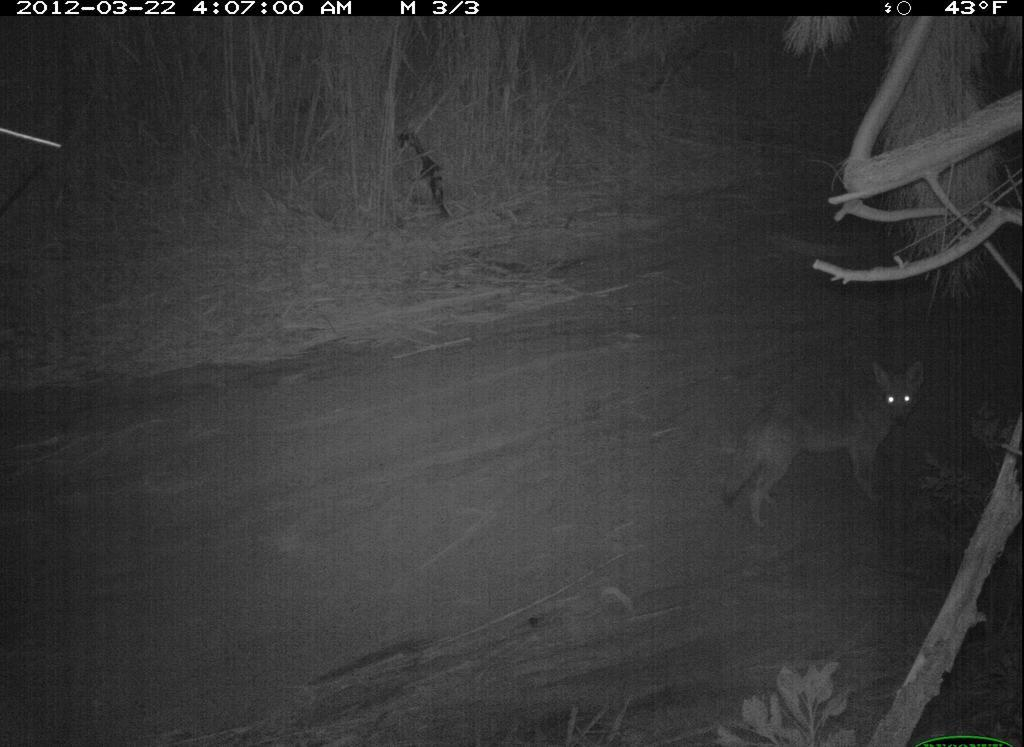coyote: (703, 327, 957, 538)
